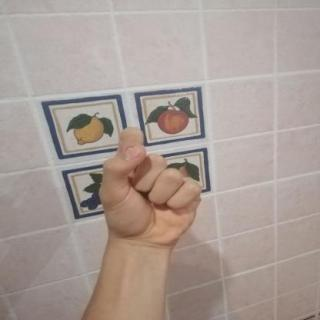FAA: (81, 117, 220, 254)
